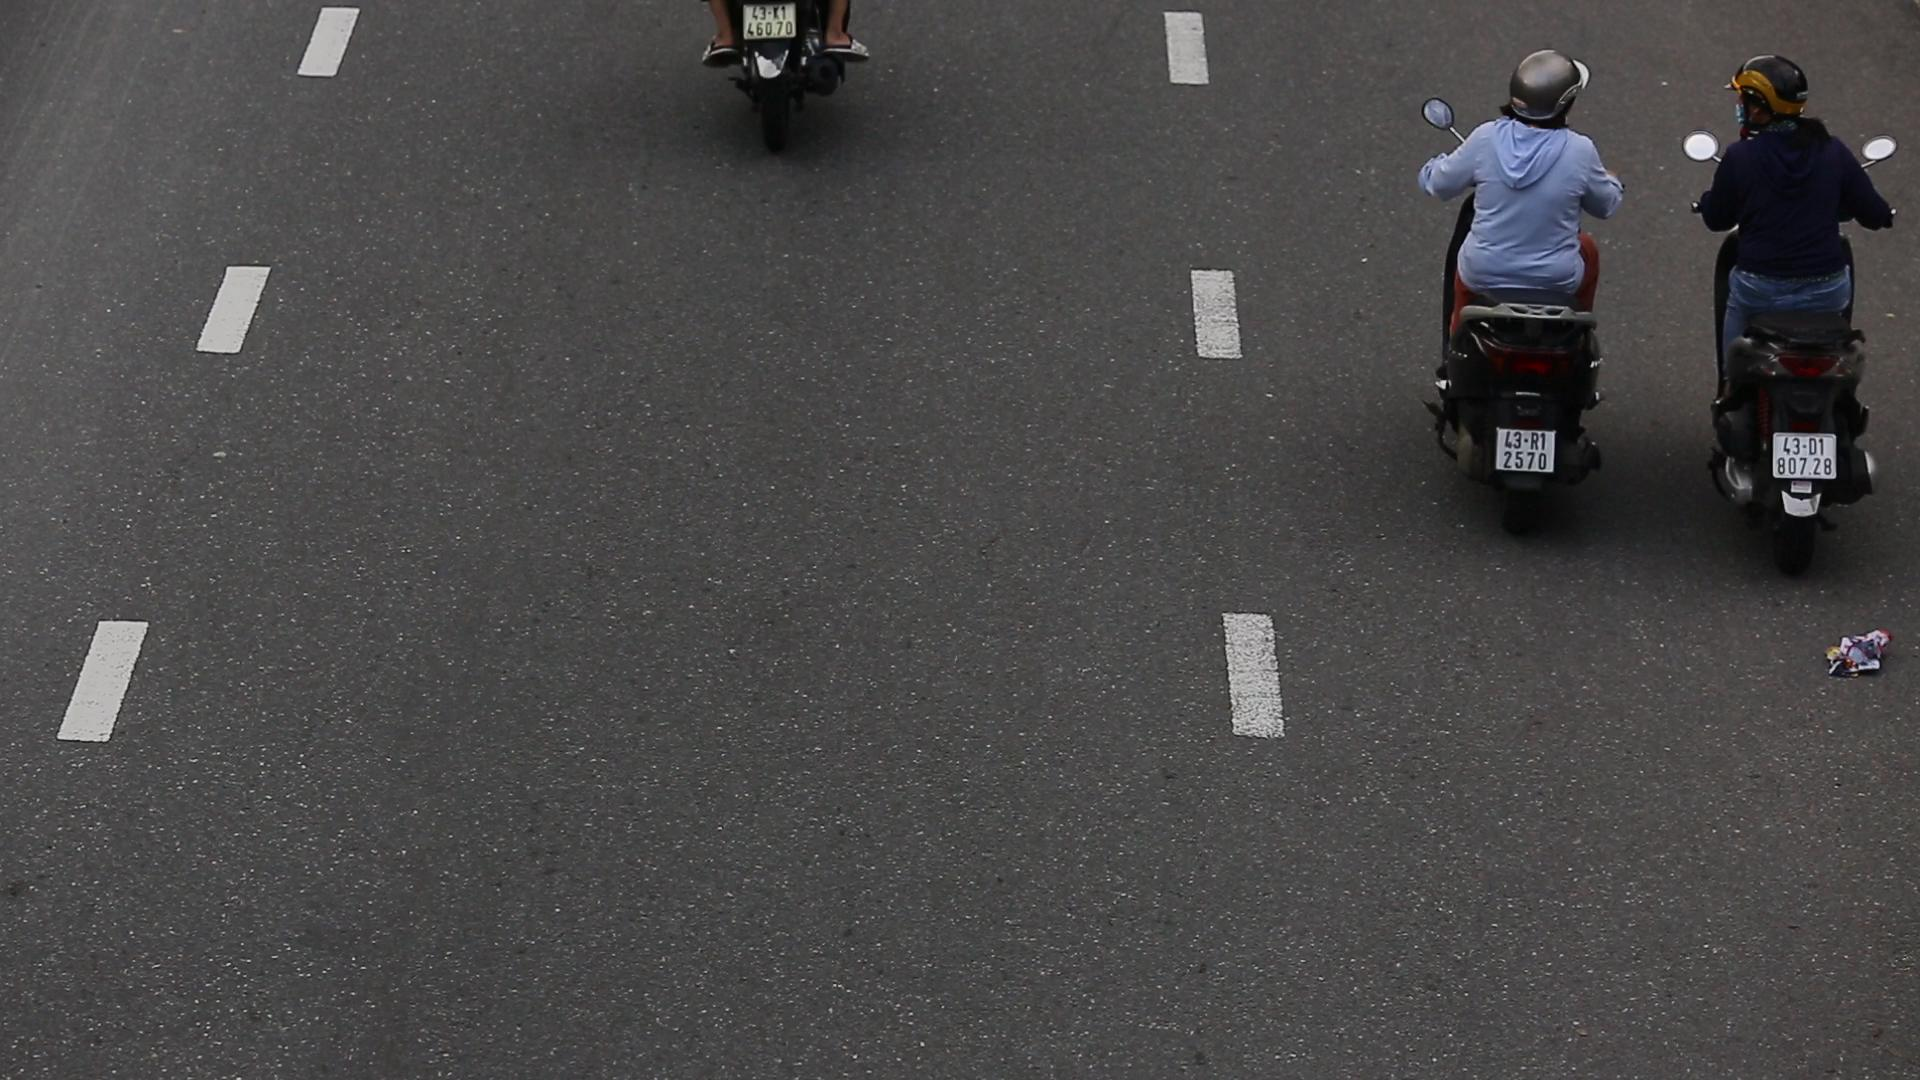motobike: (1396, 33, 1642, 562), (1683, 44, 1920, 583)
